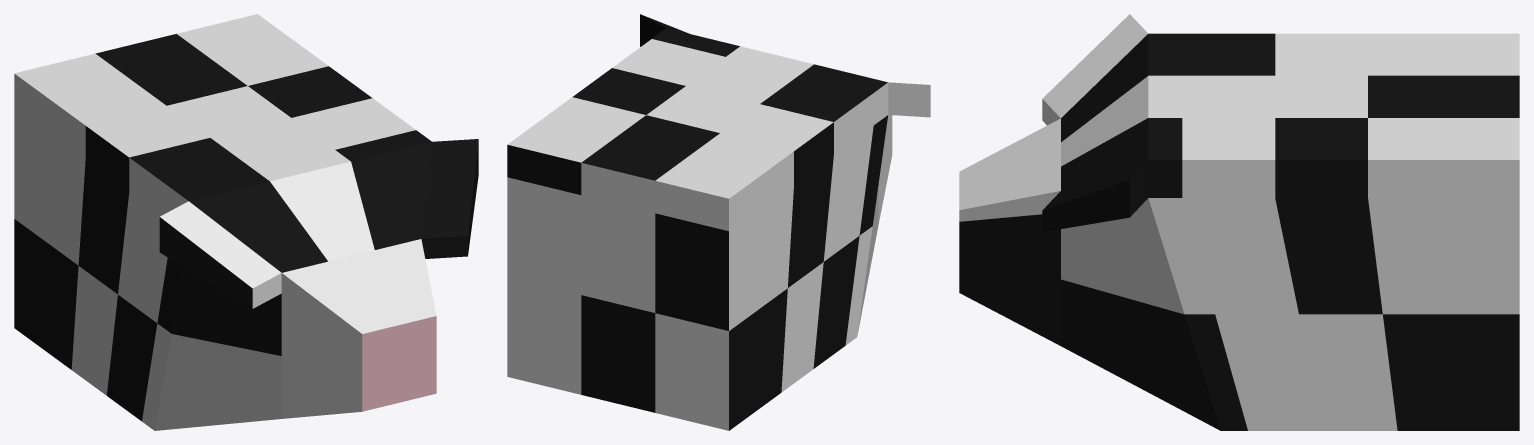
The model's file is korova.fbx.
3 renders of one model, left to right at view 1: azimuth 30°, elevation 25°; view 2: azimuth 150°, elevation 25°; view 3: azimuth 270°, elevation 25°, orthographic. The views are drawn at different scales.
Parts seen in each view (by area): view 1: Cube; view 2: Cube; view 3: Cube.
Part boxes in pixels (left/top/right/bottom): Cube: left=14, top=14, right=478, bottom=430; Cube: left=507, top=14, right=930, bottom=430; Cube: left=959, top=14, right=1519, bottom=430.
Size of the model in its own units: 262 by 200 by 375.
